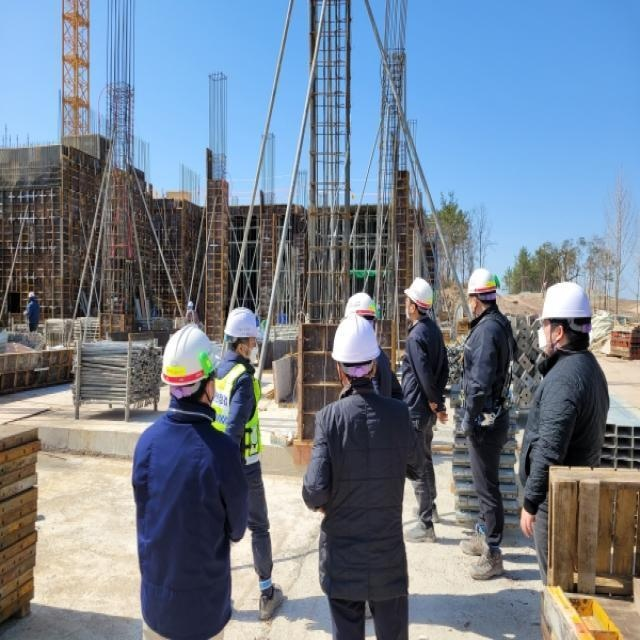Arnes_seguridad: (465, 318, 514, 440)
